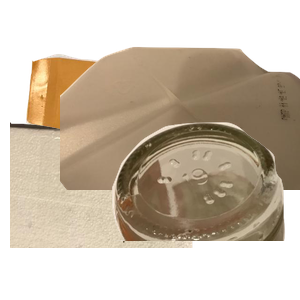glass: (89, 120, 300, 300)
paper: (23, 51, 206, 189)
plastic: (60, 44, 300, 224)
trash: (10, 120, 207, 300)
